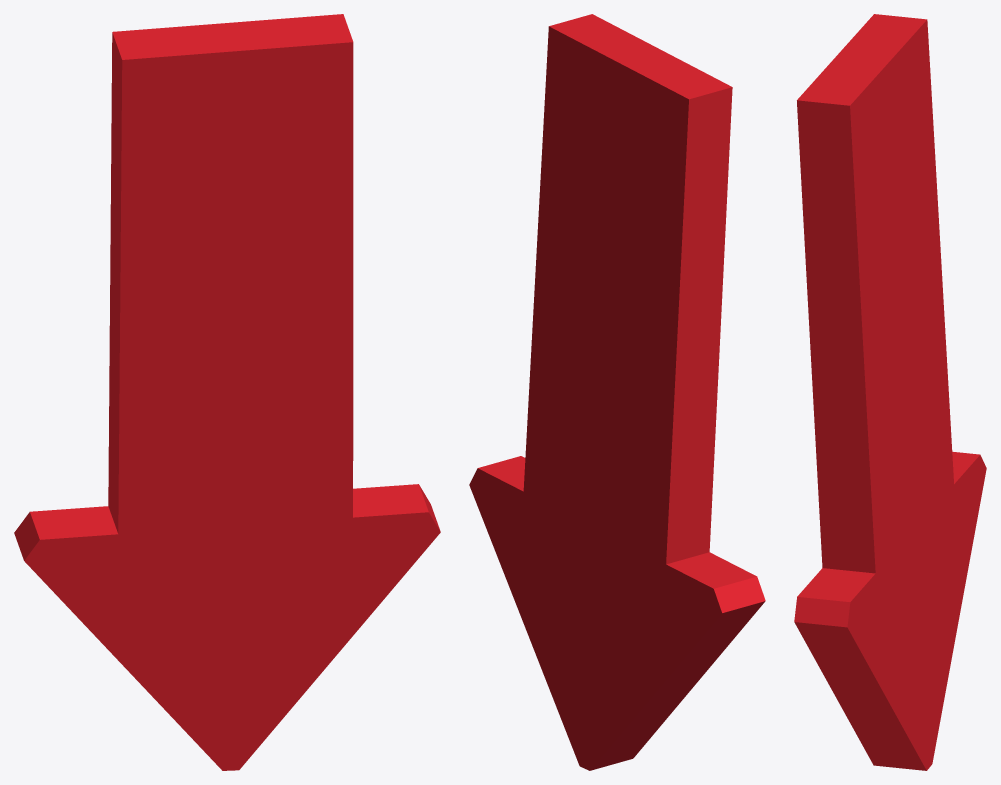
The model's file is ARROWRED.fbx.
3 views of the same model, side by side, from view 1: azimuth 30°, elevation 25°; view 2: azimuth 150°, elevation 25°; view 3: azimuth 270°, elevation 25° (orthographic). The views are drawn at different scales.
Parts seen in each view (by area): view 1: pCube1; view 2: pCube1; view 3: pCube1.
Boxes of the visible parts, x1,y1,x2,y2 form: pCube1: (14,14,440,770); pCube1: (469,14,765,770); pCube1: (794,14,986,770).
Bounding box in the file's own units: 86.74 × 171 × 42.38.
